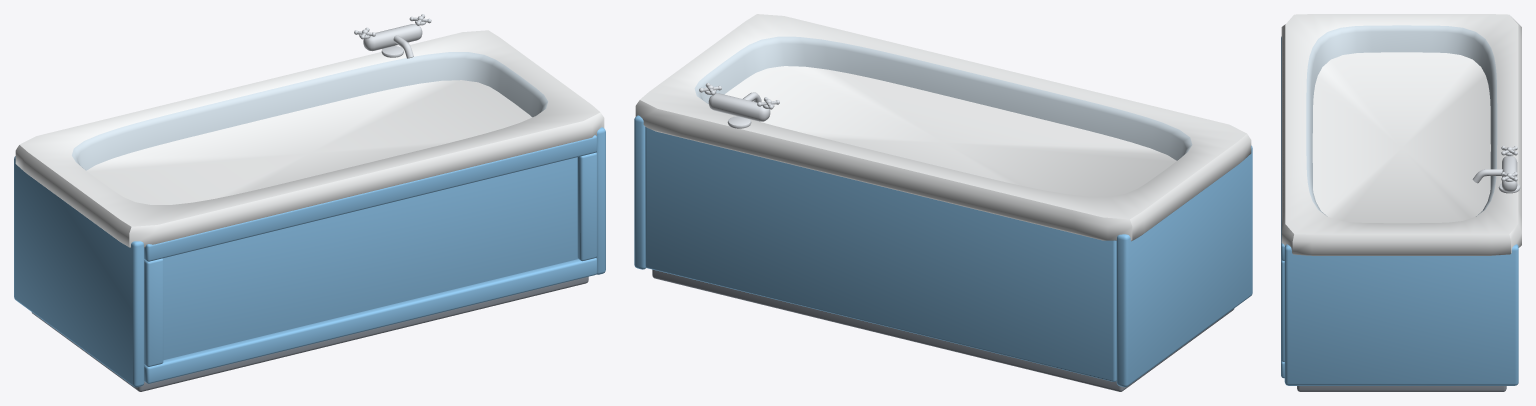
File: banheira_embutida_azul.glb
3 views of the same model, side by side, from view 1: azimuth 30°, elevation 25°; view 2: azimuth 150°, elevation 25°; view 3: azimuth 270°, elevation 25° (orthographic). The views are drawn at different scales.
Parts seen in each view (by area): view 1: banheira_embutida_azul; view 2: banheira_embutida_azul; view 3: banheira_embutida_azul.
Part boxes in pixels (box(x1,y1,x2,y2)): banheira_embutida_azul: box(14, 14, 605, 391); banheira_embutida_azul: box(634, 14, 1252, 391); banheira_embutida_azul: box(1281, 14, 1521, 391).
Size of the model in its own units: 1.72 by 0.6895 by 0.782.
Materials: 1 (1 with a texture image).
